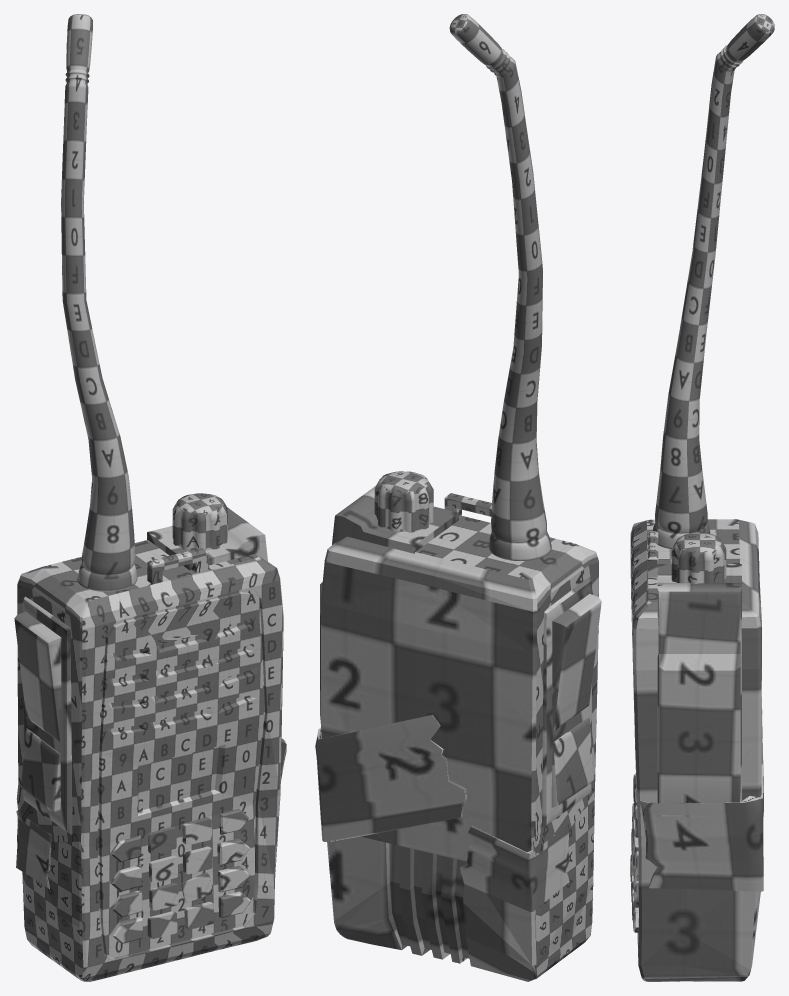
Rendered from modeluf.fbx.
3 views of the same model, side by side, from view 1: azimuth 30°, elevation 25°; view 2: azimuth 150°, elevation 25°; view 3: azimuth 270°, elevation 25° (orthographic). The views are drawn at different scales.
Visible parts, largest first — view 1: polySurface146, polySurface147, polySurface143, polySurface145, polySurface140, polySurface144, polySurface141, polySurface149, polySurface142, polySurface151, polySurface161, polySurface158 (+12 smaller); view 2: polySurface146, polySurface147, polySurface148, polySurface149, polySurface143, polySurface145, polySurface141, polySurface140, polySurface144, polySurface142; view 3: polySurface146, polySurface141, polySurface147, polySurface148, polySurface140, polySurface142.
Boxes of the visible parts, box(x1,y1,x2,y2) form: polySurface146: box(16, 540, 283, 981); polySurface147: box(61, 14, 137, 591); polySurface143: box(14, 611, 61, 742); polySurface145: box(23, 596, 72, 834); polySurface140: box(172, 493, 227, 550); polySurface144: box(21, 728, 60, 815); polySurface141: box(147, 507, 267, 570); polySurface149: box(16, 810, 52, 888); polySurface142: box(147, 548, 207, 584); polySurface151: box(147, 911, 177, 938); polySurface161: box(182, 817, 211, 845); polySurface158: box(183, 846, 212, 874); polySurface146: box(321, 516, 598, 981); polySurface147: box(449, 14, 551, 560); polySurface148: box(315, 714, 466, 841); polySurface149: box(460, 824, 569, 911); polySurface143: box(552, 594, 601, 731); polySurface145: box(542, 576, 591, 827); polySurface141: box(320, 486, 458, 726); polySurface140: box(374, 471, 433, 532); polySurface144: box(551, 717, 593, 807); polySurface142: box(444, 493, 491, 517); polySurface146: box(630, 519, 761, 981); polySurface141: box(657, 564, 741, 816); polySurface147: box(652, 14, 774, 549); polySurface148: box(639, 697, 763, 891); polySurface140: box(671, 532, 726, 583); polySurface142: box(648, 531, 658, 577).
Bounding box in the file's own units: 1.94 × 7.31 × 1.06.
Materials: 1 (1 with a texture image).
